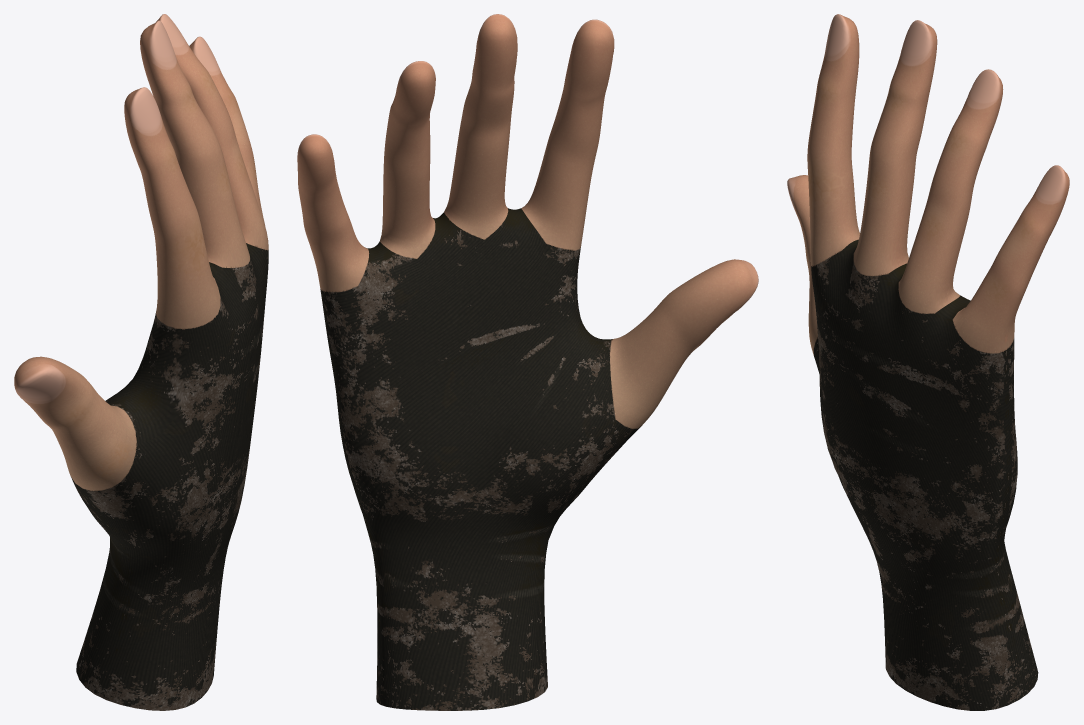
File: MANO_R.fbx
The picture shows the model from 3 angles, left to right: view 1: azimuth 30°, elevation 25°; view 2: azimuth 150°, elevation 25°; view 3: azimuth 270°, elevation 25°; orthographic projection. The views are drawn at different scales.
Visible parts, largest first — view 1: MANO_R; view 2: MANO_R; view 3: MANO_R.
Boxes of the visible parts, x1,y1,x2,y2 form: MANO_R: [14, 14, 268, 710]; MANO_R: [297, 14, 758, 710]; MANO_R: [787, 14, 1069, 710].
Bounding box in the file's own units: 55.56 × 105 × 41.1.
